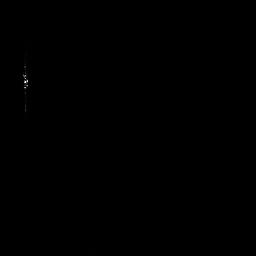ship: (20, 62, 29, 114)
